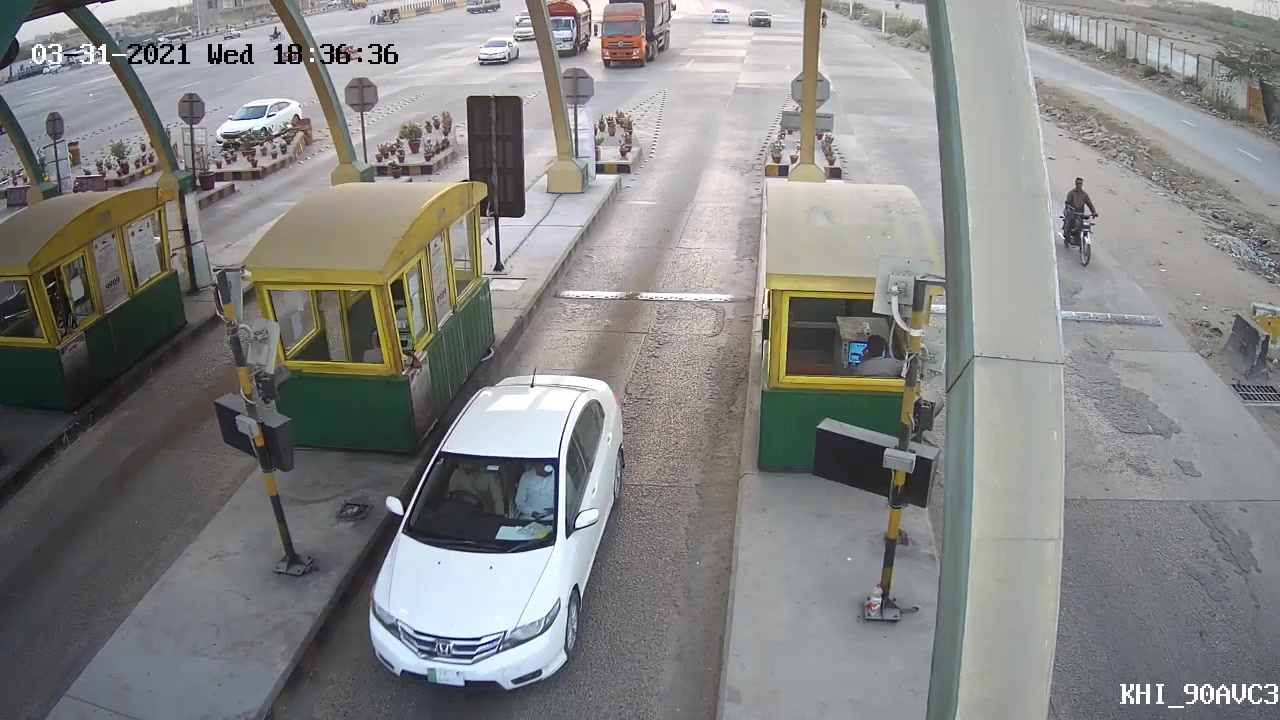F1: (361, 356, 636, 704)
